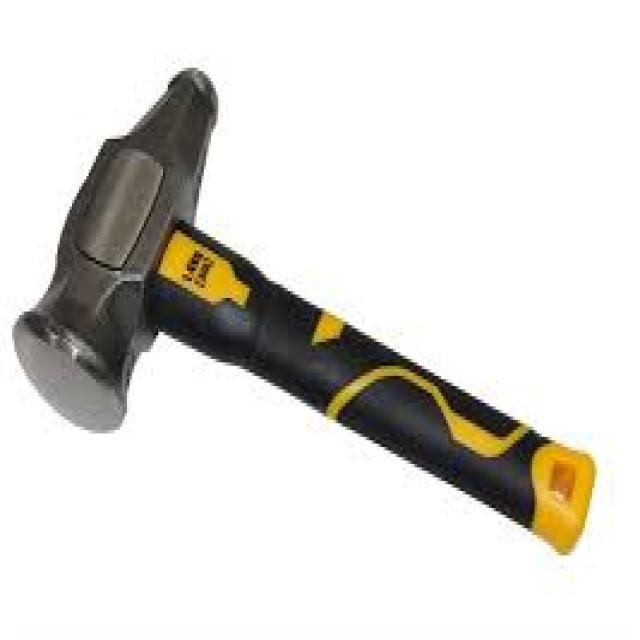Palu: (14, 70, 598, 564)
